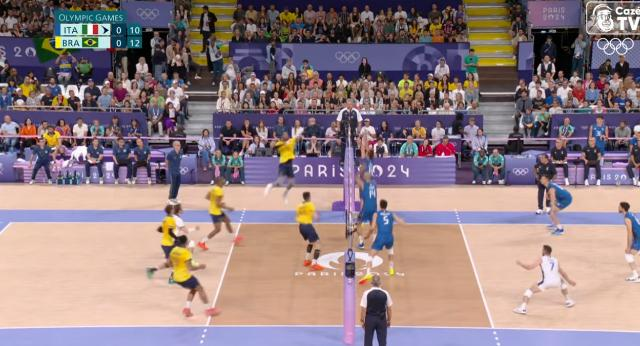Levantador: (158, 204, 176, 255)
Libero: (515, 245, 573, 314), (176, 203, 187, 230)
bola: (306, 70, 312, 80)
